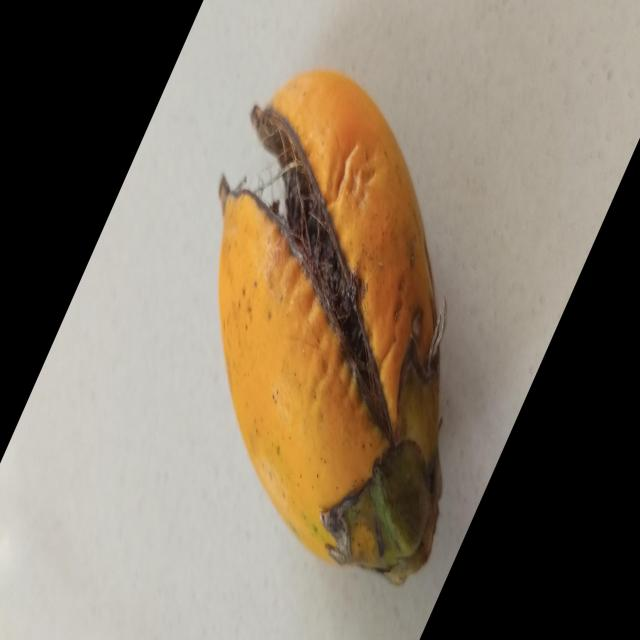damaged: (219, 71, 446, 584)
